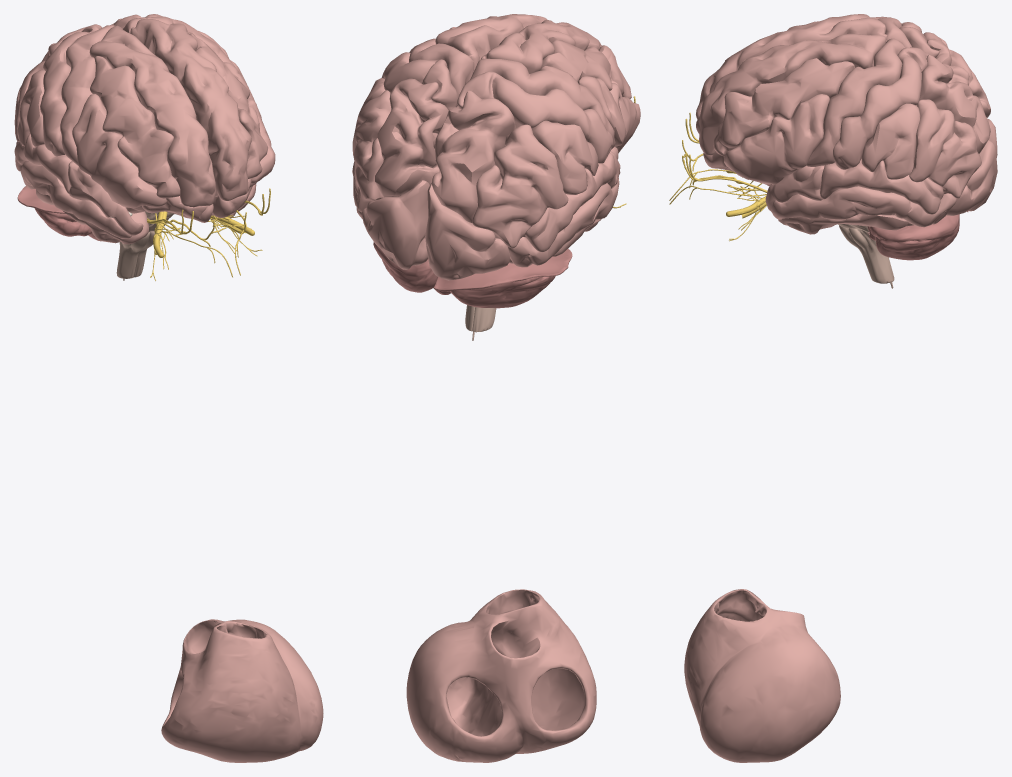
Rendered from nervoso.glb.
3 views of the same model, side by side, from view 1: azimuth 30°, elevation 25°; view 2: azimuth 150°, elevation 25°; view 3: azimuth 270°, elevation 25° (orthographic). The views are drawn at different scales.
Parts seen in each view (by area): view 1: FMA13884, FMA72654, FMA72653, FMA72655, FMA72657, FMA72661, FMA72665, FMA72685, FMA72656, FMA72800, FMA256194, FMA72667 (+7 smaller); view 2: FMA13884, FMA72669, FMA72671, FMA72672, FMA72975, FMA72665, FMA72976, FMA67944, FMA72653, FMA72670, FMA72667, FMA72661 (+9 smaller); view 3: FMA13884, FMA72654, FMA72656, FMA72658, FMA72670, FMA72686, FMA72666, FMA72662, FMA72653, FMA72668, FMA72672, FMA72805 (+7 smaller).
Boxes of the visible parts, left/top/right/bottom form: FMA13884: left=161, top=619, right=323, bottom=762; FMA72654: left=130, top=18, right=251, bottom=200; FMA72653: left=89, top=25, right=215, bottom=207; FMA72655: left=90, top=56, right=180, bottom=198; FMA72657: left=72, top=94, right=166, bottom=208; FMA72661: left=60, top=25, right=115, bottom=166; FMA72665: left=40, top=24, right=102, bottom=156; FMA72685: left=20, top=161, right=131, bottom=238; FMA72656: left=189, top=33, right=267, bottom=178; FMA72800: left=68, top=161, right=143, bottom=235; FMA256194: left=126, top=178, right=256, bottom=222; FMA72667: left=17, top=70, right=45, bottom=146; FMA13884: left=406, top=589, right=596, bottom=762; FMA72669: left=472, top=124, right=568, bottom=248; FMA72671: left=432, top=90, right=515, bottom=222; FMA72672: left=375, top=78, right=448, bottom=197; FMA72975: left=425, top=183, right=509, bottom=280; FMA72665: left=457, top=71, right=613, bottom=163; FMA72976: left=362, top=180, right=429, bottom=269; FMA67944: left=373, top=242, right=555, bottom=308; FMA72653: left=481, top=20, right=601, bottom=73; FMA72670: left=352, top=90, right=391, bottom=211; FMA72667: left=532, top=120, right=598, bottom=194; FMA72661: left=470, top=58, right=615, bottom=148; FMA13884: left=684, top=589, right=840, bottom=762; FMA72654: left=696, top=33, right=886, bottom=155; FMA72656: left=713, top=58, right=854, bottom=156; FMA72658: left=724, top=94, right=829, bottom=184; FMA72670: left=909, top=99, right=981, bottom=198; FMA72686: left=771, top=186, right=956, bottom=227; FMA72666: left=833, top=47, right=928, bottom=169; FMA72662: left=806, top=38, right=905, bottom=166; FMA72653: left=696, top=14, right=887, bottom=119; FMA72668: left=861, top=103, right=920, bottom=179; FMA72672: left=916, top=55, right=990, bottom=153; FMA72805: left=820, top=159, right=943, bottom=214.
Bounding box in the file's own units: 0.1502 × 0.4562 × 0.1958.
